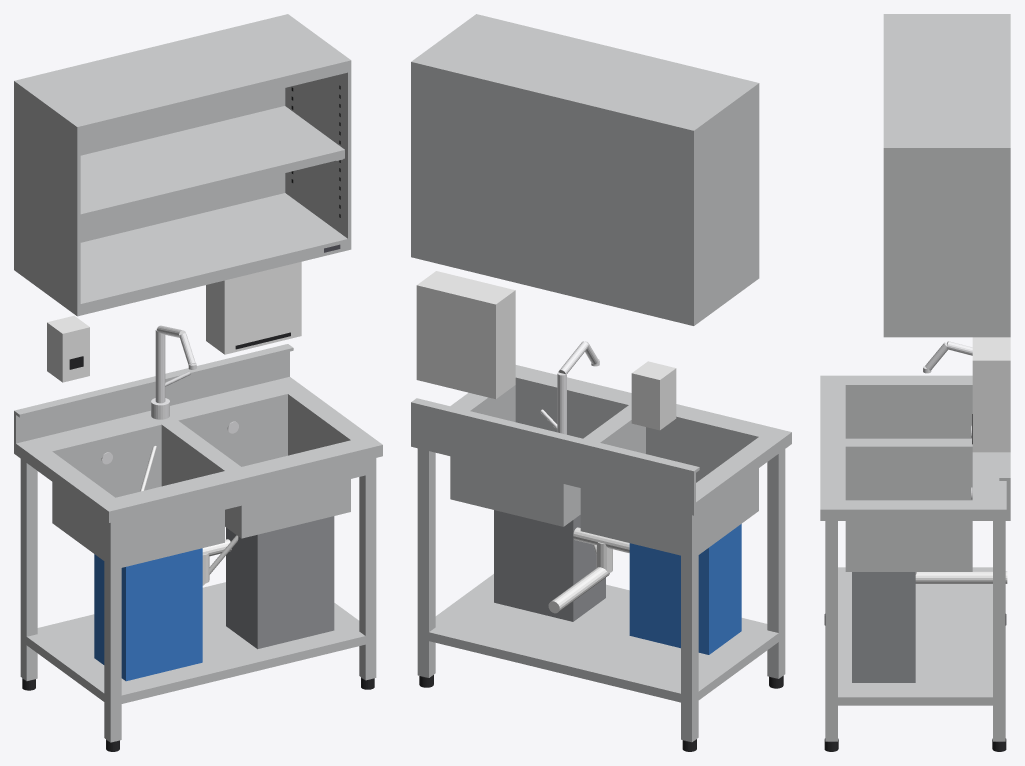
File: Hygienebereich.glb
3 renders of one model, left to right at view 1: azimuth 30°, elevation 25°; view 2: azimuth 150°, elevation 25°; view 3: azimuth 270°, elevation 25°, orthographic. The views are drawn at different scales.
Parts seen in each view (by area): view 1: Spueltisch_Doppelbecken_1000x600x850, Haengeschrank_1000x400x660_Oberboden, Spueltisch_Doppelbecken_1000x600x850_Arbeitsplatte, Haengeschrank_1000x400x660_Unterboden, Haengeschrank_1000x400x660_Zwischenboden, Spueltisch_Doppelbecken_1000x600x850_Kanister_Abwasser, Spueltisch_Doppelbecken_1000x600x850_Grundboden, Haengeschrank_1000x400x660_Seite_L, Spueltisch_Doppelbecken_1000x600x850_Kanister_Frischwasser, Haengeschrank_1000x400x660_Rueckwand, Spueltisch_Doppelbecken_1000x600x850_Aufkantung, Haengeschrank_1000x400x660_Seite_R (+8 smaller); view 2: Haengeschrank_1000x400x660_Rueckwand, Haengeschrank_1000x400x660_Oberboden, Spueltisch_Doppelbecken_1000x600x850, Spueltisch_Doppelbecken_1000x600x850_Grundboden, Spueltisch_Doppelbecken_1000x600x850_Arbeitsplatte, Haengeschrank_1000x400x660_Seite_L, Spueltisch_Doppelbecken_1000x600x850_Papierhandtuchhalter, Spueltisch_Doppelbecken_1000x600x850_Kanister_Frischwasser, Spueltisch_Doppelbecken_1000x600x850_Aufkantung, Spueltisch_Doppelbecken_1000x600x850_Kanister_Abwasser, Haengeschrank_1000x400x660_Unterboden, Spueltisch_Doppelbecken_1000x600x850_Bein_9.4_5.4 (+6 smaller); view 3: Haengeschrank_1000x400x660_Seite_R, Spueltisch_Doppelbecken_1000x600x850, Haengeschrank_1000x400x660_Oberboden, Spueltisch_Doppelbecken_1000x600x850_Grundboden, Spueltisch_Doppelbecken_1000x600x850_Arbeitsplatte, Spueltisch_Doppelbecken_1000x600x850_Kanister_Abwasser, Spueltisch_Doppelbecken_1000x600x850_Papierhandtuchhalter, Spueltisch_Doppelbecken_1000x600x850_Bein_9.4_0.1, Spueltisch_Doppelbecken_1000x600x850_Bein_9.4_5.4, Haengeschrank_1000x400x660_Unterboden, Spueltisch_Doppelbecken_1000x600x850_Abfluss_Wand.
Part boxes in pixels (bbox=[...]): Spueltisch_Doppelbecken_1000x600x850: bbox=[52, 394, 350, 567]; Haengeschrank_1000x400x660_Oberboden: bbox=[14, 14, 351, 138]; Spueltisch_Doppelbecken_1000x600x850_Arbeitsplatte: bbox=[14, 377, 382, 522]; Haengeschrank_1000x400x660_Unterboden: bbox=[14, 193, 351, 316]; Haengeschrank_1000x400x660_Zwischenboden: bbox=[80, 106, 344, 222]; Spueltisch_Doppelbecken_1000x600x850_Kanister_Abwasser: bbox=[226, 516, 334, 649]; Spueltisch_Doppelbecken_1000x600x850_Grundboden: bbox=[26, 582, 375, 706]; Haengeschrank_1000x400x660_Seite_L: bbox=[14, 92, 80, 304]; Spueltisch_Doppelbecken_1000x600x850_Kanister_Frischwasser: bbox=[94, 548, 202, 681]; Haengeschrank_1000x400x660_Rueckwand: bbox=[80, 88, 285, 242]; Spueltisch_Doppelbecken_1000x600x850_Aufkantung: bbox=[14, 344, 289, 443]; Haengeschrank_1000x400x660_Seite_R: bbox=[285, 72, 351, 238]; Haengeschrank_1000x400x660_Rueckwand: bbox=[414, 74, 690, 313]; Haengeschrank_1000x400x660_Oberboden: bbox=[411, 14, 759, 142]; Spueltisch_Doppelbecken_1000x600x850: bbox=[450, 378, 758, 555]; Spueltisch_Doppelbecken_1000x600x850_Grundboden: bbox=[418, 574, 785, 705]; Spueltisch_Doppelbecken_1000x600x850_Arbeitsplatte: bbox=[411, 365, 791, 515]; Haengeschrank_1000x400x660_Seite_L: bbox=[690, 95, 759, 314]; Spueltisch_Doppelbecken_1000x600x850_Papierhandtuchhalter: bbox=[416, 271, 515, 399]; Spueltisch_Doppelbecken_1000x600x850_Kanister_Frischwasser: bbox=[629, 524, 741, 654]; Spueltisch_Doppelbecken_1000x600x850_Aufkantung: bbox=[411, 402, 695, 503]; Spueltisch_Doppelbecken_1000x600x850_Kanister_Abwasser: bbox=[494, 510, 605, 621]; Haengeschrank_1000x400x660_Unterboden: bbox=[411, 245, 759, 325]; Spueltisch_Doppelbecken_1000x600x850_Bein_9.4_5.4: bbox=[417, 448, 435, 677]; Haengeschrank_1000x400x660_Seite_R: bbox=[883, 159, 1010, 325]; Spueltisch_Doppelbecken_1000x600x850: bbox=[845, 385, 972, 571]; Haengeschrank_1000x400x660_Oberboden: bbox=[883, 14, 1010, 159]; Spueltisch_Doppelbecken_1000x600x850_Grundboden: bbox=[825, 567, 1005, 705]; Spueltisch_Doppelbecken_1000x600x850_Arbeitsplatte: bbox=[820, 375, 1010, 520]; Spueltisch_Doppelbecken_1000x600x850_Kanister_Abwasser: bbox=[852, 572, 915, 682]; Spueltisch_Doppelbecken_1000x600x850_Papierhandtuchhalter: bbox=[972, 337, 1010, 452]; Spueltisch_Doppelbecken_1000x600x850_Bein_9.4_0.1: bbox=[825, 521, 837, 741]; Spueltisch_Doppelbecken_1000x600x850_Bein_9.4_5.4: bbox=[993, 521, 1005, 741]; Haengeschrank_1000x400x660_Unterboden: bbox=[883, 326, 1010, 337]; Spueltisch_Doppelbecken_1000x600x850_Abfluss_Wand: bbox=[915, 571, 1007, 583].
Size of the model in its own units: 10 by 21.1 by 6.
